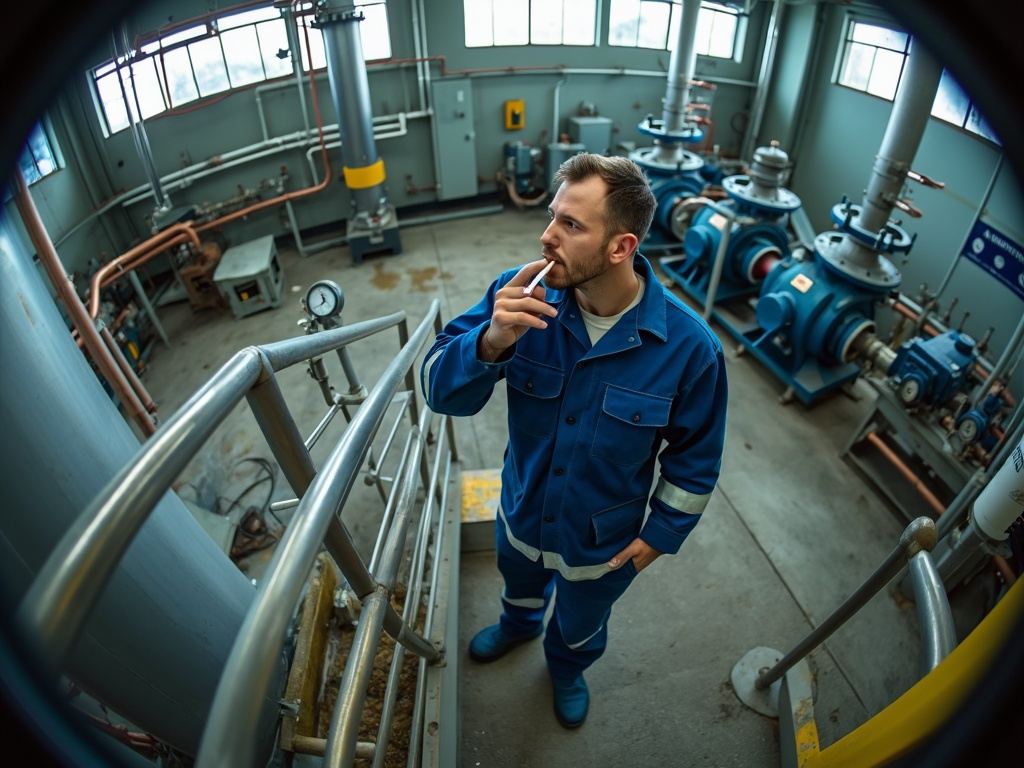smoking: (519, 254, 560, 301)
